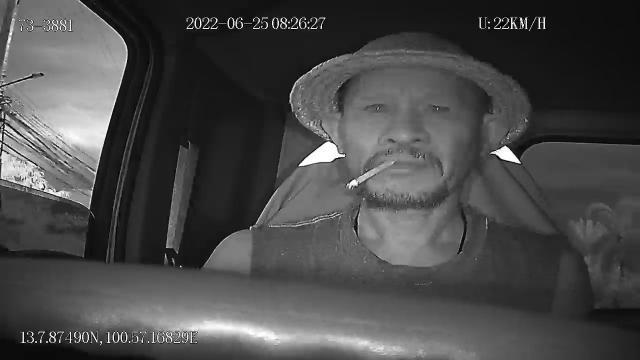SafeDriving: (418, 94, 456, 120), (358, 94, 396, 118)
Smoking: (350, 156, 396, 190)
